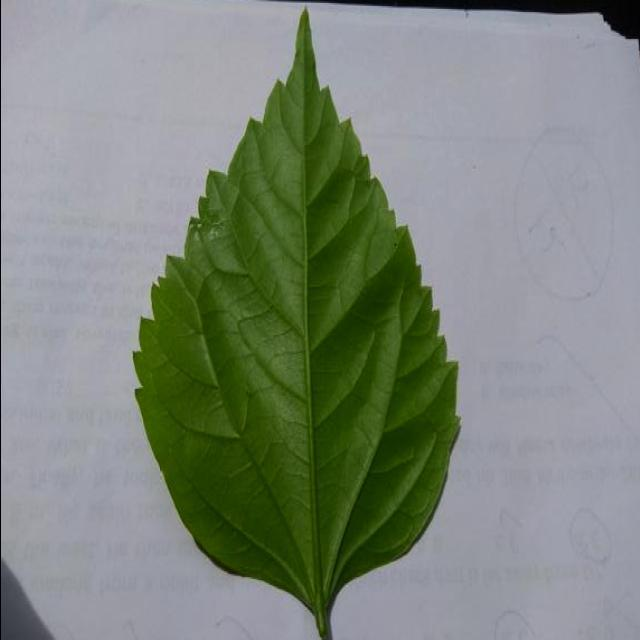leaf: (131, 6, 462, 638)
